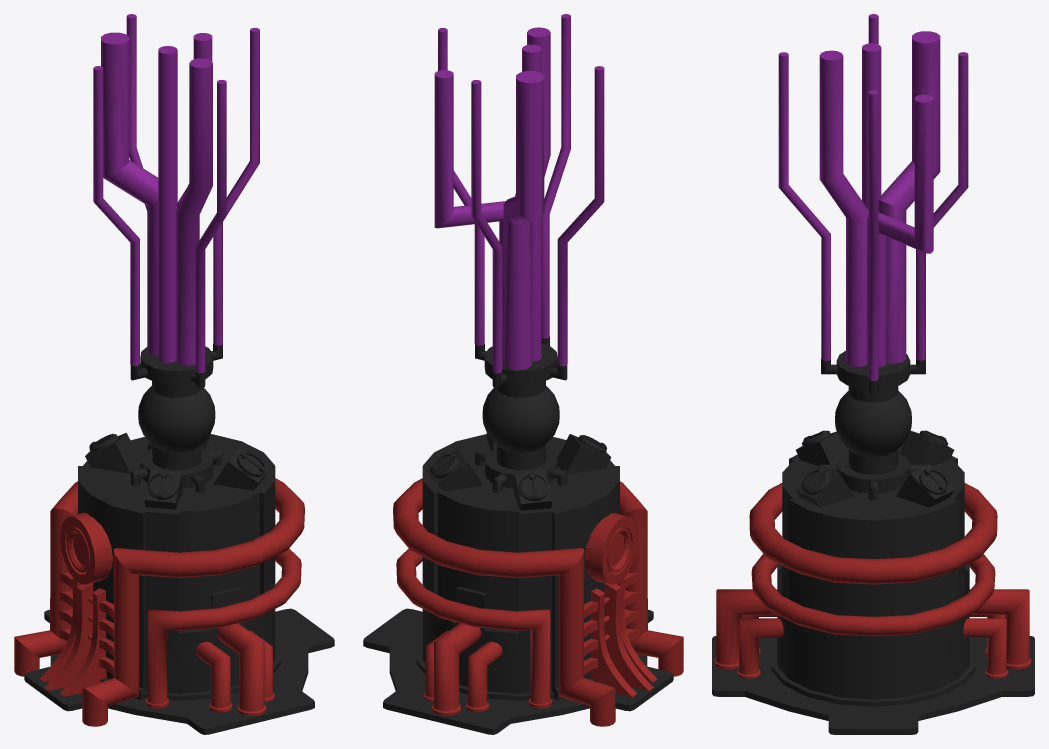
File: Reactor_low.FBX
3 renders of one model, left to right at view 1: azimuth 30°, elevation 25°; view 2: azimuth 150°, elevation 25°; view 3: azimuth 270°, elevation 25°, orthographic.
Parts seen in each view (by area): view 1: Cylinder037, Line070, Cylinder038, Line064, Line066, Line063, Line054, Sphere003, Cylinder048, Line069, Line062, Line067 (+12 smaller); view 2: Cylinder037, Line070, Line064, Cylinder038, Line054, Line065, Sphere003, Cylinder048, Line069, Line068, Line062, Box022 (+12 smaller); view 3: Cylinder037, Cylinder038, Line070, Line066, Line064, Line054, Line065, Line055, Cylinder048, Box022, Sphere003, Line057 (+6 smaller).
Boxes of the visible parts, x1,y1,x2,y2 form: Cylinder037: (78, 434, 281, 700); Line070: (14, 478, 304, 726); Cylinder038: (24, 608, 334, 734); Line064: (101, 32, 158, 356); Line066: (176, 58, 212, 365); Line063: (158, 46, 177, 362); Line054: (145, 548, 301, 708); Sphere003: (138, 386, 215, 452); Cylinder048: (140, 346, 213, 488); Line069: (93, 66, 139, 366); Line062: (195, 80, 226, 373); Line067: (213, 27, 259, 345); Cylinder037: (416, 434, 619, 700); Line070: (393, 478, 683, 726); Line064: (503, 71, 544, 369); Cylinder038: (363, 608, 673, 734); Line054: (396, 548, 552, 708); Line065: (434, 70, 505, 355); Sphere003: (482, 386, 559, 452); Cylinder048: (484, 343, 557, 488); Line069: (557, 66, 604, 366); Line068: (471, 80, 502, 373); Line062: (541, 14, 570, 338); Box022: (427, 432, 611, 510); Cylinder037: (771, 442, 975, 706); Cylinder038: (712, 636, 1034, 734); Line070: (749, 483, 997, 584); Line066: (819, 50, 868, 366); Line064: (878, 31, 940, 363); Line054: (751, 554, 995, 636); Line065: (867, 94, 933, 367); Line055: (714, 589, 1031, 669); Cylinder048: (836, 351, 910, 493); Box022: (795, 430, 954, 507); Sphere003: (835, 391, 911, 456); Line057: (737, 618, 1008, 678).
Bounding box in the file's own units: 159 × 351 × 165.
